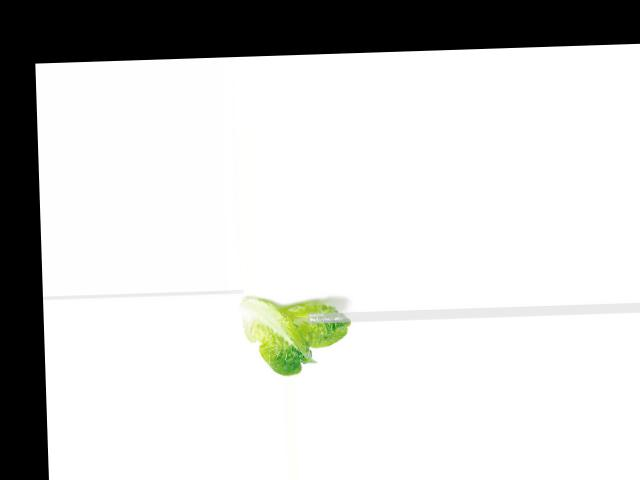lettuce: (237, 297, 355, 377)
